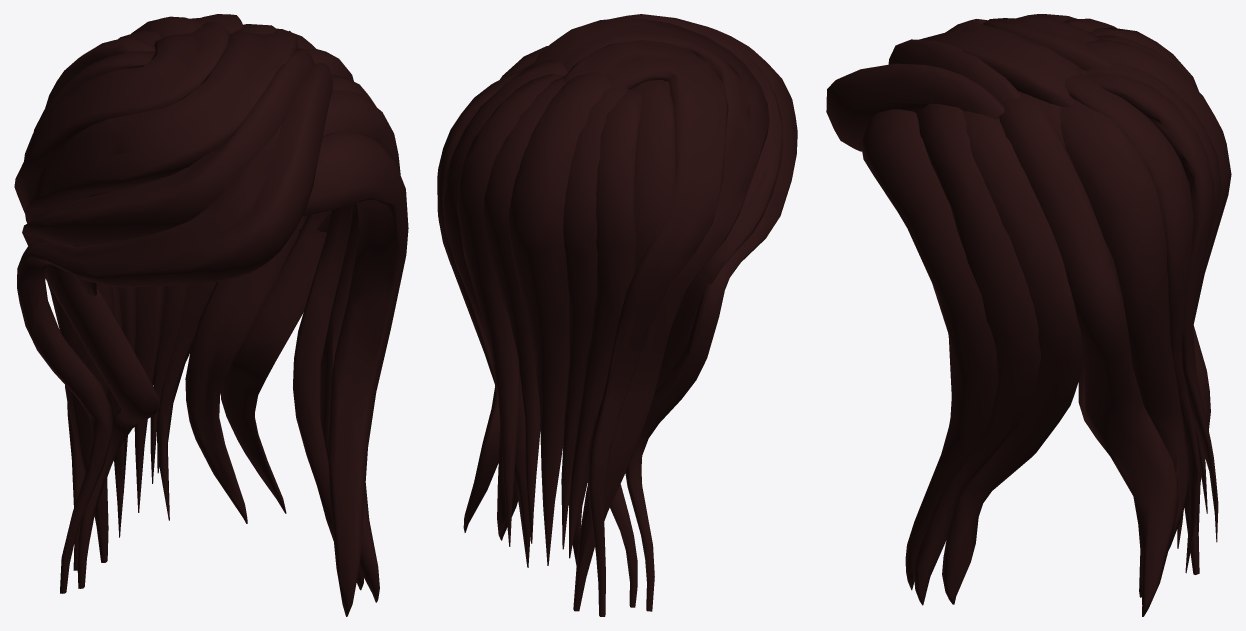
Rendered from hair-4-7e7b3f00.glb.
3 views of the same model, side by side, from view 1: azimuth 30°, elevation 25°; view 2: azimuth 150°, elevation 25°; view 3: azimuth 270°, elevation 25° (orthographic). The views are drawn at different scales.
Visible parts, largest first — view 1: hair_4.001; view 2: hair_4.001; view 3: hair_4.001.
Boxes of the visible parts, x1,y1,x2,y2 form: hair_4.001: (14,14,408,616); hair_4.001: (437,14,797,616); hair_4.001: (826,14,1231,616).
Bounding box in the file's own units: 2.04 × 3.33 × 2.19.
